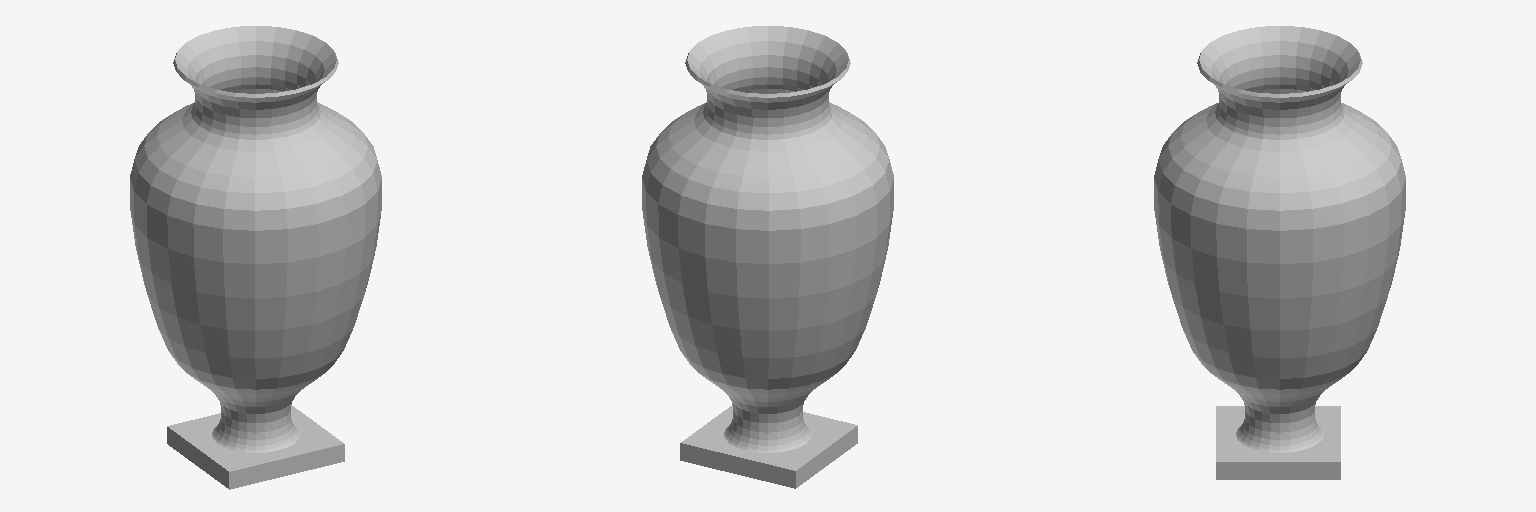
The model's file is vase-UV unwrapped.obj.
3 views of the same model, side by side, from view 1: azimuth 30°, elevation 25°; view 2: azimuth 150°, elevation 25°; view 3: azimuth 270°, elevation 25° (orthographic).
Parts seen in each view (by area): view 1: vase; view 2: vase; view 3: vase.
Boxes of the visible parts, x1,y1,x2,y2 form: vase: [130, 26, 381, 489]; vase: [642, 26, 893, 488]; vase: [1154, 26, 1405, 479].
Size of the model in its own units: 6.34 by 10.86 by 6.34.